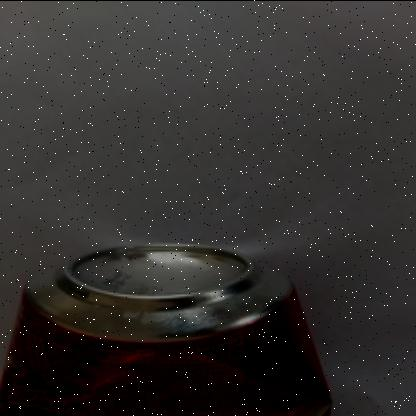Can: (0, 244, 334, 416)
